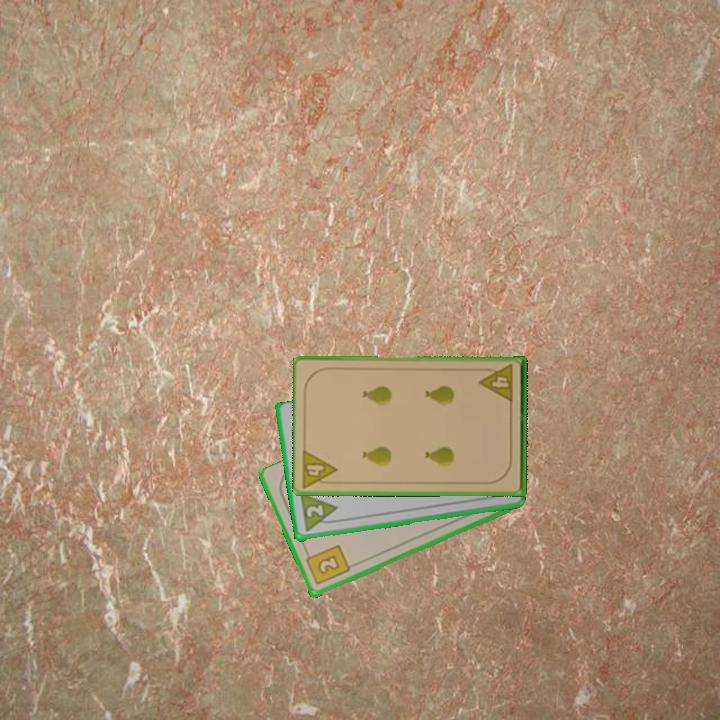2b: (302, 541, 353, 588)
2p: (296, 491, 341, 535)
4p: (300, 446, 341, 491), (477, 361, 516, 406)
